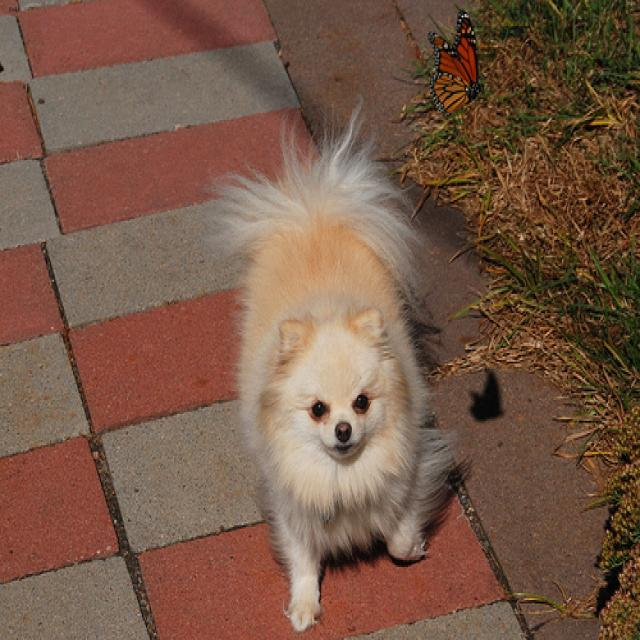dog-pomeranian: (198, 87, 477, 637)
